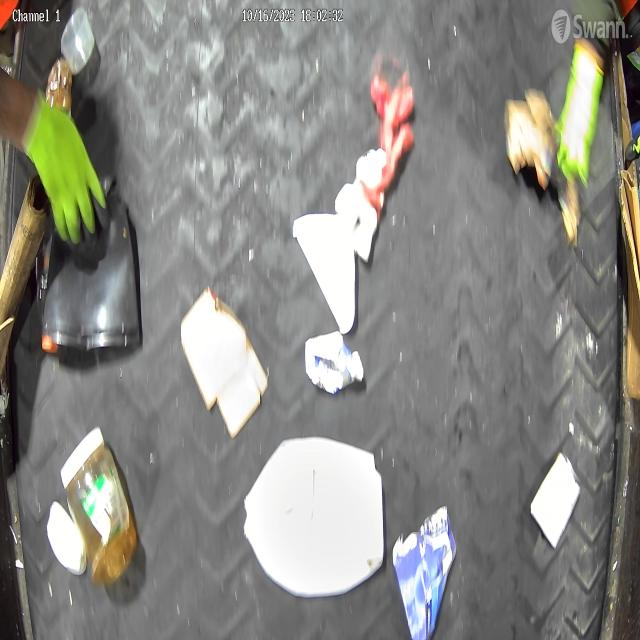can: (530, 451, 582, 548)
milk_jug: (242, 436, 384, 597)
non_white_jug: (392, 506, 457, 640)
